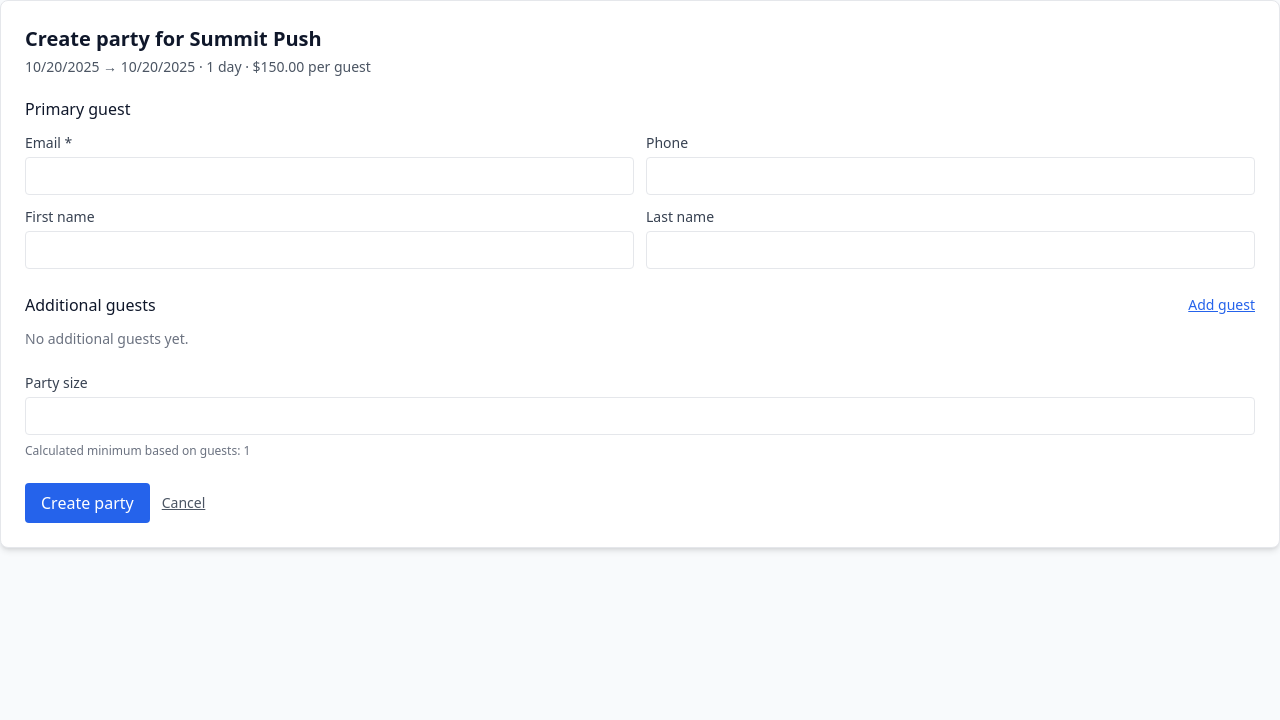
Test: CreatePartyForm › submits party and shows links
The width and height of the screenshot is (1280, 720).
Type "guest@example.com" into the field labelled "Email *" at (330, 176), box [25,157,634,195]
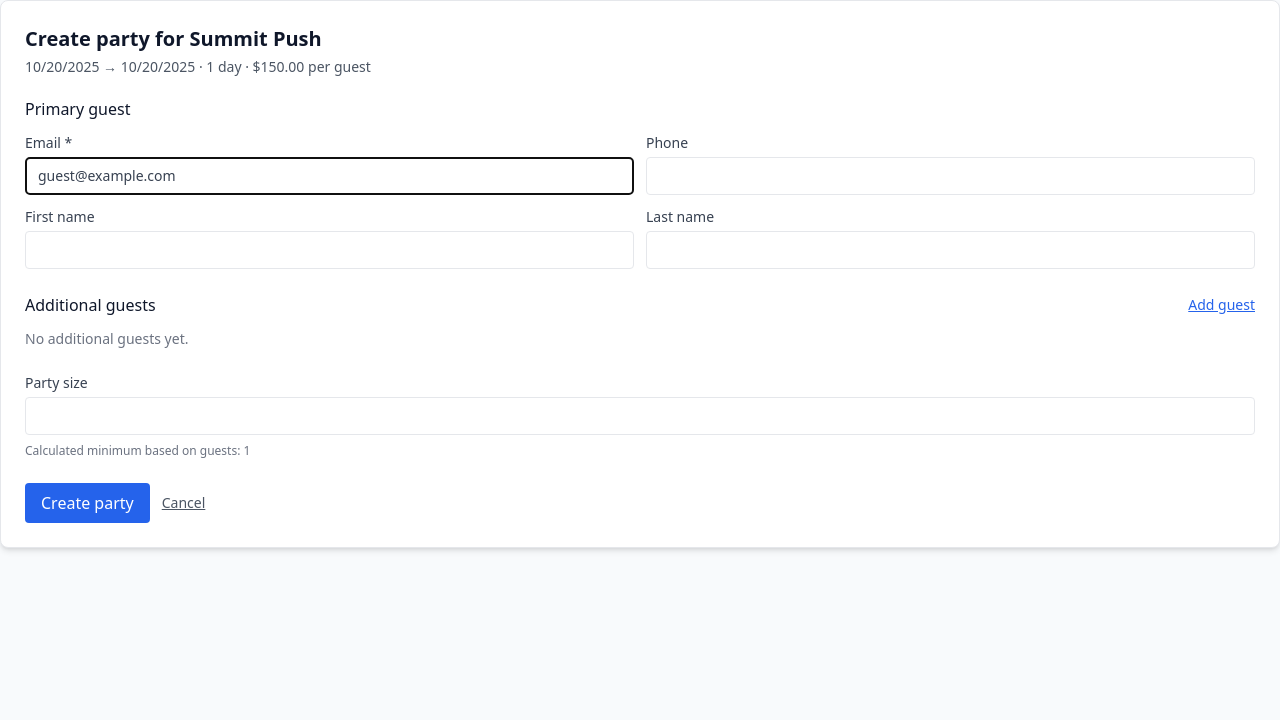
Click the button "Create party" at (87, 503), box [25,483,150,523]
(page scrolled)
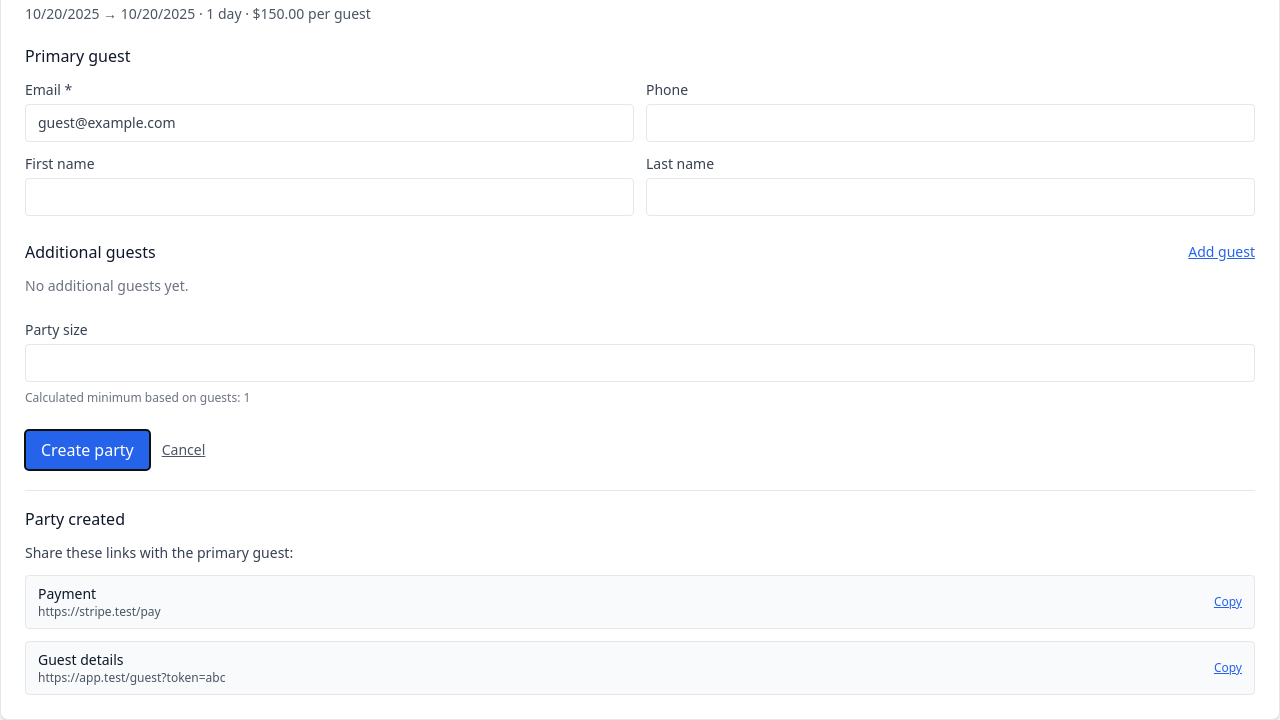
Expected: the heading "Party created" is shown, [25,508,125,530]
Expected: the text "https://stripe.test/pay" is shown, [38,604,161,620]
Expected: the text "https://app.test/guest?token=abc" is shown, [38,670,226,686]
